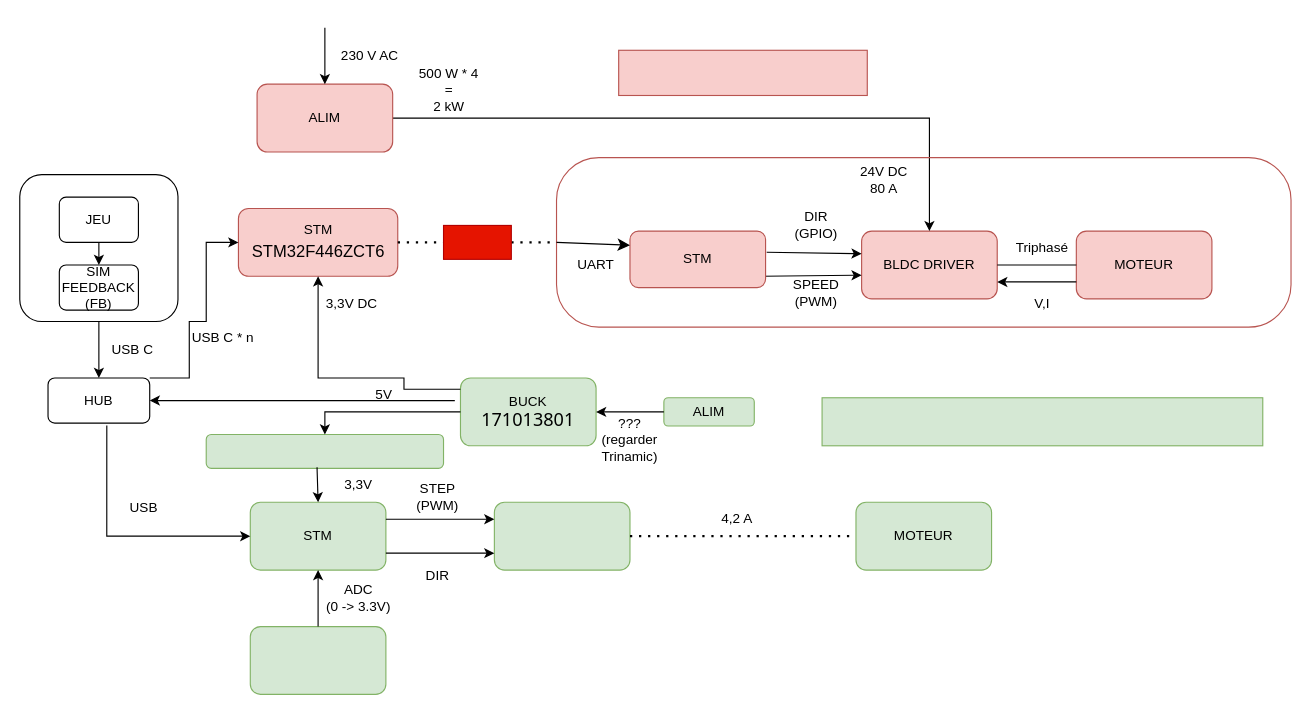
Some shapes in this 1311 by 714 pixel diagram are drawn without their labels. Each missing label, with the centre of its shape:
"FREIN AVEC RETOUR DE FORCE" goes at [1042,421].
"LDO AZ1117CH-3.3TRG1" goes at [324,450].
"LOAD CELL (jauge de contrainte)" goes at [317,659].
"MOTION SYSTEM" goes at [742,72].
"STEPPER DRIVER" goes at [561,535].
"X4" goes at [476,241].
